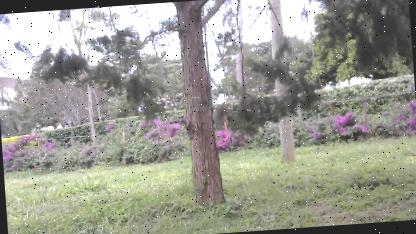tree: (167, 0, 245, 215), (260, 0, 304, 168)
